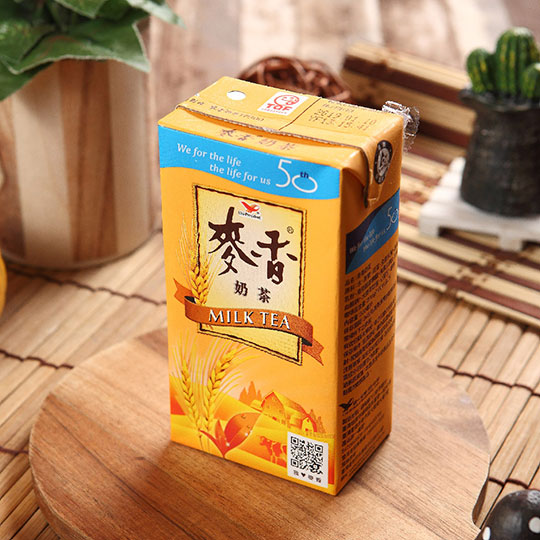milk tea: (156, 75, 393, 499)
